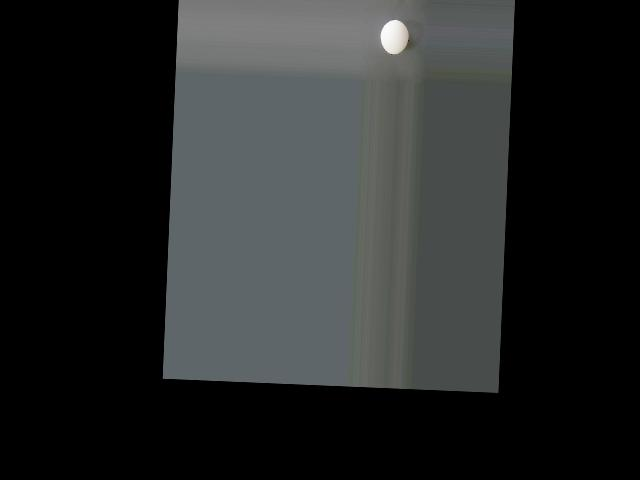egg: (380, 20, 409, 55)
